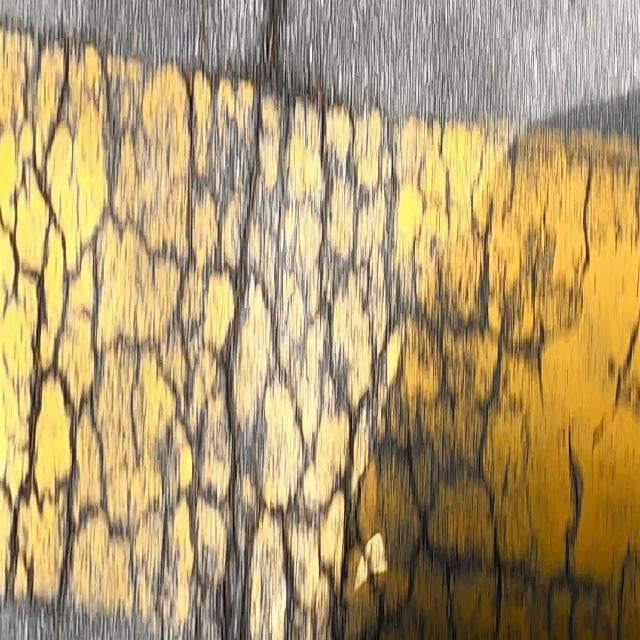PIEL DE COCODRILO: (0, 13, 639, 639)
